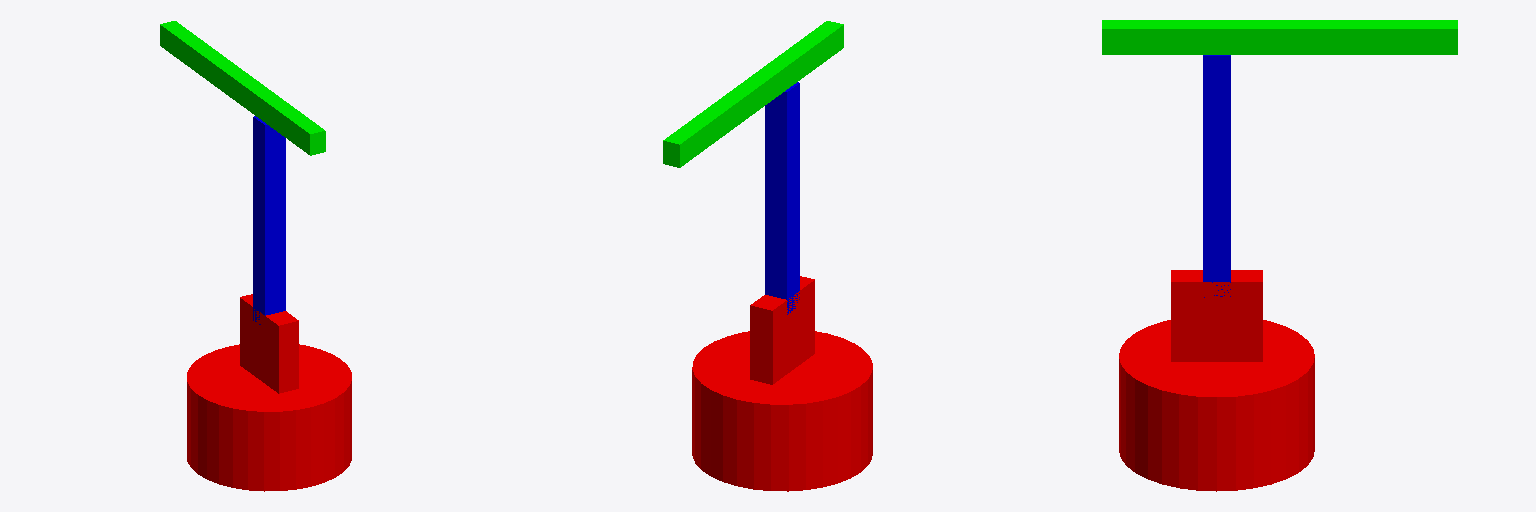
URDF robot description (ebamk1):
<?xml version="1.0"?>

<robot
  name="ebamk1">

<!-- BASE LINK -->
  <link name="base_link">
    <visual>
      <origin
        xyz="0 0 0.0185"
        rpy="0 0 0" />
      <geometry>
        <cylinder length="0.037" radius="0.035"/>
      </geometry>
      <material name="red" />
    </visual>
  </link>

<!-- JOINT 1 -->
  <joint
    name="joint_1"
    type="revolute">
    <origin
      xyz="0 0 0.05215"
      rpy="0 0 0" />
    <parent
      link="base_link" />
    <child
      link="link_1" />
    <axis
      xyz="0 0 1" />
    <limit
      effort="0"
      velocity="0"
      lower="-0.7854" upper="0.7854"/>
      <!--   [-45,45]-->
  </joint>

<!-- LINK_1 -->
  <link name="link_1">
    <visual>
      <origin
        xyz="0 0 0"
        rpy="0 0 0" />
      <geometry>
        <box size="0.01 0.033 0.033" />
      </geometry>
      <material name="red" />
    </visual>
  </link>

<!-- JOINT 2 -->
  <joint
    name="joint_2"
    type="revolute">
    <origin
      xyz="0 0 0.01515"
      rpy="0 0 0" />
    <parent
      link="link_1" />
    <child
      link="link_2" />
    <axis
      xyz="1 0 0" />
    <limit
      effort="0"
      velocity="0"
      lower="-0.6109" upper="0.9599"/>
      <!--   [-35,55]-->
  </joint>

<!-- LINK_2 -->
  <link name="link_2">
    <visual>
      <origin
        xyz="0 0 0.0425"
        rpy="0 0 0" />
      <geometry>
        <box size="0.01 0.01 0.095" />
      </geometry>
      <material name="blue" />
    </visual>
  </link>

<!-- JOINT 3 -->
  <joint
    name="joint_3"
    type="revolute">
    <origin
      xyz="0 0 0.095"
      rpy="0 0 0" />
    <parent
      link="link_2" />
    <child
      link="link_3" />
    <axis
      xyz="1 0 0" />
    <limit
      effort="0"
      velocity="0"
      lower="-1.2217" upper="0.3491"/>
      <!--   [-70,20]-->
  </joint>


<!-- LINK_3 -->
  <link name="link_3">
    <visual>
      <origin
        xyz="0 0.0225 0"
        rpy="0 0 0" />
      <geometry>
        <box size="0.0075 0.127 0.01" />
      </geometry>
      <material name="green" />
    </visual>
  </link>

<!-- MATERIAL -->
  <material name="red">
      <color rgba="1 0 0 1" />
  </material>
    <material name="green">
      <color rgba="0 1 0 1" />
  </material>
    <material name="blue">
      <color rgba="0 0 1 1" />
  </material>
</robot>

--- What the picture shows (computed from the rendered views, not written in the file) ---
The picture shows the robot from 3 angles, left to right: view 1: azimuth 30°, elevation 25°; view 2: azimuth 150°, elevation 25°; view 3: azimuth 270°, elevation 25°; orthographic projection.
Model ebamk1 with 4 links and 3 joints (3 revolute), rooted at base_link, posed every joint at zero.
Visible links, largest first — view 1: base_link, link_2, link_3, link_1; view 2: base_link, link_2, link_3, link_1; view 3: base_link, link_3, link_1, link_2.
Link boxes in pixels (x1,y1,x2,y2): base_link: (187, 344, 351, 491); link_2: (253, 116, 285, 324); link_3: (160, 21, 325, 155); link_1: (240, 294, 298, 393); base_link: (692, 331, 872, 491); link_2: (765, 82, 799, 314); link_3: (663, 21, 843, 167); link_1: (750, 276, 814, 384); base_link: (1119, 320, 1314, 491); link_3: (1102, 20, 1457, 54); link_1: (1171, 270, 1262, 361); link_2: (1203, 55, 1230, 297).
Bounding box of the posed robot: 0.07 × 0.127 × 0.1673 m (x, y, z).
Geometry: primitives only (box / cylinder / sphere), no mesh files.
